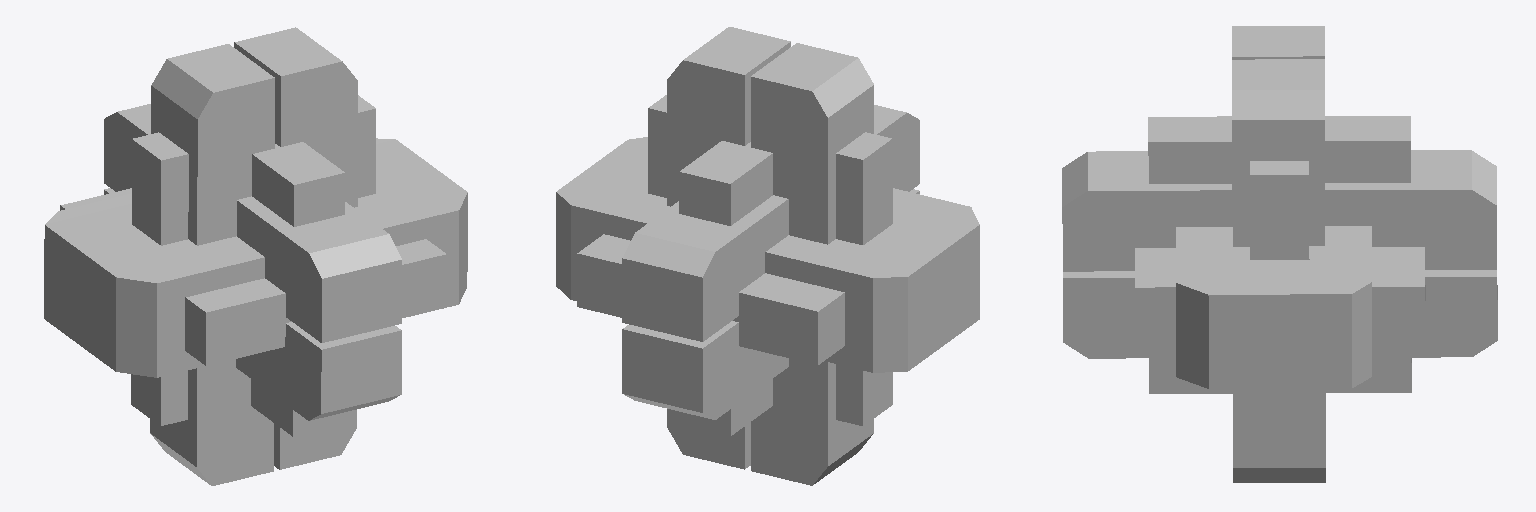
Rendered from PlanetBeFallModel.obj.
3 renders of one model, left to right at view 1: azimuth 30°, elevation 25°; view 2: azimuth 150°, elevation 25°; view 3: azimuth 270°, elevation 25°, orthographic.
Visible parts, largest first — view 1: PlanetBeFall; view 2: PlanetBeFall; view 3: PlanetBeFall.
Boxes of the visible parts, x1,y1,x2,y2 form: PlanetBeFall: [44, 27, 467, 485]; PlanetBeFall: [556, 27, 979, 485]; PlanetBeFall: [1062, 26, 1497, 482].
Bounding box in the file's own units: 3.08 × 3.3 × 3.3.